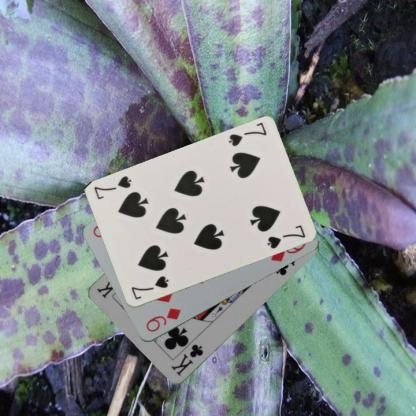7s: (128, 273, 170, 302), (225, 120, 268, 148)
9d: (143, 306, 182, 334)
Kc: (168, 342, 205, 378)
